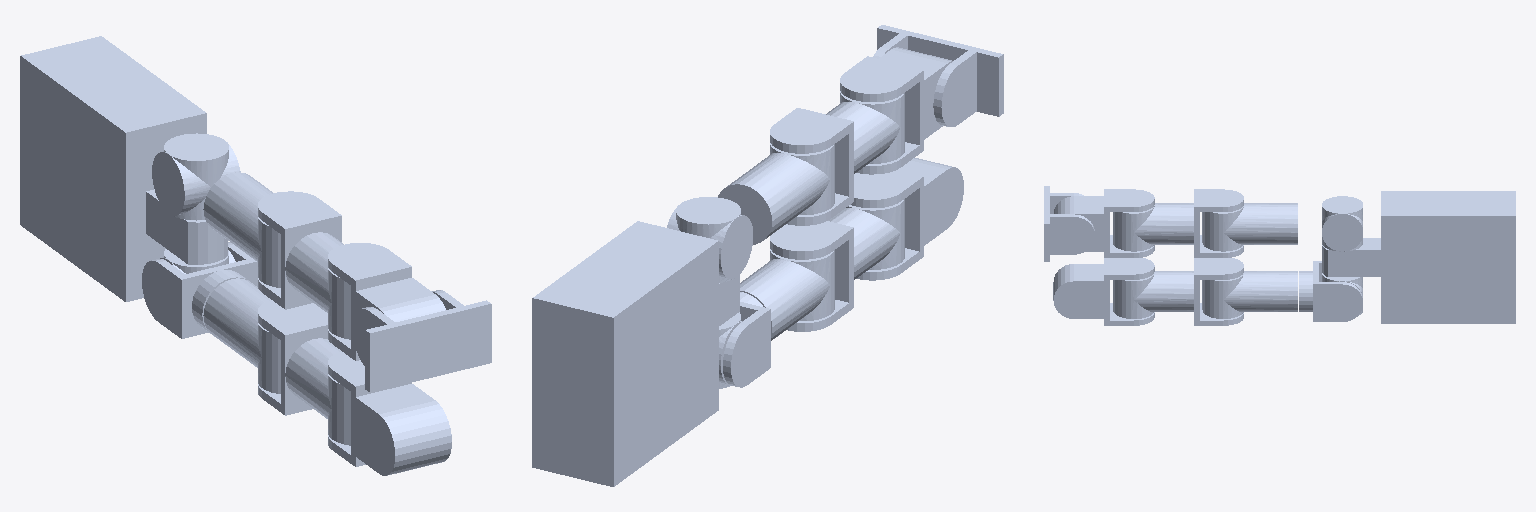
URDF robot description (sample_bipedal_robot):
<?xml version="1.0" encoding="utf-8"?>
<!-- This URDF was automatically created by SolidWorks to URDF Exporter! Originally created by Stephen Brawner (brawner@gmail.com) 
     Commit Version:   Build Version: 1.6.9305.33219
     For more information, please see http://wiki.ros.org/sw_urdf_exporter -->
<robot
  name="sample_bipedal_robot">
  <link
    name="base_link">
    <inertial>
      <origin
        xyz="2.3957E-18 -0.016415 6.1719E-17"
        rpy="0 0 0" />
      <mass
        value="10.167" />
      <inertia
        ixx="0.34448"
        ixy="6.8915E-18"
        ixz="5.6161E-18"
        iyy="0.16165"
        iyz="1.8865E-18"
        izz="0.24799" />
    </inertial>
    <visual>
      <origin
        xyz="0 0 0"
        rpy="0 0 0" />
      <geometry>
        <!-- <mesh filename="package://sample_bipedal_robot/meshes/base_link.STL" /> -->
        <mesh filename="./meshes/base_link.STL" />
      </geometry>
      <material
        name="">
        <color
          rgba="0.86667 0.9098 1 1" />
      </material>
    </visual>
    <collision>
      <origin
        xyz="0 0 0"
        rpy="0 0 0" />
      <geometry>
        <!-- <mesh filename="package://sample_bipedal_robot/meshes/base_link.STL" /> -->
        <mesh filename="./meshes/base_link.STL" />
      </geometry>
    </collision>
  </link>
  <link
    name="hip_pitch_left_link">
    <inertial>
      <origin
        xyz="2.33690732279828E-08 0 2.33690732043268E-08"
        rpy="0 0 0" />
      <mass
        value="0.664887687236356" />
      <inertia
        ixx="0.00194491189054185"
        ixy="1.24922502997283E-09"
        ixz="3.63079895867531E-16"
        iyy="0.00202049937456935"
        iyz="-1.24922502969971E-09"
        izz="0.00194491189054185" />
    </inertial>
    <visual>
      <origin
        xyz="0 0 0"
        rpy="0 0 0" />
      <geometry>
        <!-- <mesh filename="package://sample_bipedal_robot/meshes/hip_pitch_left_link.STL" /> -->
        <mesh filename="./meshes/hip_pitch_left_link.STL" />
      </geometry>
      <material
        name="">
        <color
          rgba="0.866666666666667 0.909803921568627 1 1" />
      </material>
    </visual>
    <collision>
      <origin
        xyz="0 0 0"
        rpy="0 0 0" />
      <geometry>
        <!-- <mesh filename="package://sample_bipedal_robot/meshes/hip_pitch_left_link.STL" /> -->
        <mesh filename="./meshes/hip_pitch_left_link.STL" />
      </geometry>
    </collision>
  </link>
  <joint
    name="hip_pitch_left_joint"
    type="continuous">
    <origin
      xyz="0 -0.355 -0.125"
      rpy="0 0 0" />
    <parent
      link="base_link" />
    <child
      link="hip_pitch_left_link" />
    <axis
      xyz="0 0 1" />
    <limit
      lower="-1.57"
      upper="1.57"
      effort="100"
      velocity="10" />
  </joint>
  <link
    name="hip_roll_left_link">
    <inertial>
      <origin
        xyz="5.47988322332102E-18 -0.071448992050803 0"
        rpy="0 0 0" />
      <mass
        value="0.530800065725118" />
      <inertia
        ixx="0.00238182060955742"
        ixy="1.33587179200789E-20"
        ixz="-1.93986095976325E-19"
        iyy="0.00288416659073163"
        iyz="-6.73805290334419E-20"
        izz="0.00375103770592918" />
    </inertial>
    <visual>
      <origin
        xyz="0 0 0"
        rpy="0 0 0" />
      <geometry>
        <!-- <mesh filename="package://sample_bipedal_robot/meshes/hip_roll_left_link.STL" /> -->
        <mesh filename="./meshes/hip_roll_left_link.STL" />
      </geometry>
      <material
        name="">
        <color
          rgba="0.866666666666667 0.909803921568627 1 1" />
      </material>
    </visual>
    <collision>
      <origin
        xyz="0 0 0"
        rpy="0 0 0" />
      <geometry>
        <!-- <mesh filename="package://sample_bipedal_robot/meshes/hip_roll_left_link.STL" /> -->
        <mesh filename="./meshes/hip_roll_left_link.STL" />
      </geometry>
    </collision>
  </link>
  <joint
    name="hip_roll_left_joint"
    type="continuous">
    <origin
      xyz="0 0 0"
      rpy="0 0 0" />
    <parent
      link="hip_pitch_left_link" />
    <child
      link="hip_roll_left_link" />
    <axis
      xyz="1 0 0" />
    <limit
      lower="-1.57"
      upper="1.57"
      effort="100"
      velocity="10" />
  </joint>
  <link
    name="hip_yaw_left_link">
    <inertial>
      <origin
        xyz="-1.53307894851172E-08 -0.161028143140512 0"
        rpy="0 0 0" />
      <mass
        value="1.36383246641991" />
      <inertia
        ixx="0.0129648379825961"
        ixy="4.73949257847294E-10"
        ixz="-3.64916490298114E-09"
        iyy="0.00361726436697802"
        iyz="-1.2642707667673E-19"
        izz="0.0128091054286981" />
    </inertial>
    <visual>
      <origin
        xyz="0 0 0"
        rpy="0 0 0" />
      <geometry>
        <!-- <mesh filename="package://sample_bipedal_robot/meshes/hip_yaw_left_link.STL" /> -->
        <mesh filename="./meshes/hip_yaw_left_link.STL" />
      </geometry>
      <material
        name="">
        <color
          rgba="0.866666666666667 0.909803921568627 1 1" />
      </material>
    </visual>
    <collision>
      <origin
        xyz="0 0 0"
        rpy="0 0 0" />
      <geometry>
        <!-- <mesh filename="package://sample_bipedal_robot/meshes/hip_yaw_left_link.STL" /> -->
        <mesh filename="./meshes/hip_yaw_left_link.STL" />
      </geometry>
    </collision>
  </link>
  <joint
    name="hip_yaw_left_joint"
    type="continuous">
    <origin
      xyz="0 -0.15 0"
      rpy="0 0 0" />
    <parent
      link="hip_roll_left_link" />
    <child
      link="hip_yaw_left_link" />
    <axis
      xyz="0 -1 0" />
    <limit
      lower="-1.57"
      upper="1.57"
      effort="100"
      velocity="10" />
  </joint>
  <link
    name="knee_pitch_left_link">
    <inertial>
      <origin
        xyz="-4.5329426770206E-08 -0.1913342221555 -5.74365988936787E-08"
        rpy="0 0 0" />
      <mass
        value="1.50270730941549" />
      <inertia
        ixx="0.0206480149866074"
        ixy="5.19726298765753E-09"
        ixz="-1.0654232083862E-09"
        iyy="0.00554119545375214"
        iyz="-5.77368067223139E-09"
        izz="0.0191230395144735" />
    </inertial>
    <visual>
      <origin
        xyz="0 0 0"
        rpy="0 0 0" />
      <geometry>
        <!-- <mesh filename="package://sample_bipedal_robot/meshes/knee_pitch_left_link.STL" /> -->
        <mesh filename="./meshes/knee_pitch_left_link.STL" />
      </geometry>
      <material
        name="">
        <color
          rgba="0.866666666666667 0.909803921568627 1 1" />
      </material>
    </visual>
    <collision>
      <origin
        xyz="0 0 0"
        rpy="0 0 0" />
      <geometry>
        <!-- <mesh filename="package://sample_bipedal_robot/meshes/knee_pitch_left_link.STL" /> -->
        <mesh filename="./meshes/knee_pitch_left_link.STL" />
      </geometry>
    </collision>
  </link>
  <joint
    name="knee_pitch_left_joint"
    type="continuous">
    <origin
      xyz="0 -0.25 0"
      rpy="0 0 0" />
    <parent
      link="hip_yaw_left_link" />
    <child
      link="knee_pitch_left_link" />
    <axis
      xyz="0 0 1" />
    <limit
      lower="-1.57"
      upper="1.57"
      effort="100"
      velocity="10" />
  </joint>
  <link
    name="ankle_pitch_left_link">
    <inertial>
      <origin
        xyz="1.12299858547934E-17 -0.138293351959195 -2.77555756156289E-17"
        rpy="0 0 0" />
      <mass
        value="1.15921855254247" />
      <inertia
        ixx="0.0100513482421227"
        ixy="-1.30273512224744E-19"
        ixz="3.97825964336926E-20"
        iyy="0.00497069222002865"
        iyz="-6.37423018329792E-19"
        izz="0.00880005281567877" />
    </inertial>
    <visual>
      <origin
        xyz="0 0 0"
        rpy="0 0 0" />
      <geometry>
        <!-- <mesh filename="package://sample_bipedal_robot/meshes/ankle_pitch_left_link.STL" /> -->
        <mesh filename="./meshes/ankle_pitch_left_link.STL" />
      </geometry>
      <material
        name="">
        <color
          rgba="0.866666666666667 0.909803921568627 1 1" />
      </material>
    </visual>
    <collision>
      <origin
        xyz="0 0 0"
        rpy="0 0 0" />
      <geometry>
        <!-- <mesh filename="package://sample_bipedal_robot/meshes/ankle_pitch_left_link.STL" /> -->
        <mesh filename="./meshes/ankle_pitch_left_link.STL" />
      </geometry>
    </collision>
  </link>
  <joint
    name="ankle_pitch_left_joint"
    type="continuous">
    <origin
      xyz="0 -0.3 0"
      rpy="0 0 0" />
    <parent
      link="knee_pitch_left_link" />
    <child
      link="ankle_pitch_left_link" />
    <axis
      xyz="0 0 1" />
    <limit
      lower="-1.57"
      upper="1.57"
      effort="100"
      velocity="10" />
  </joint>
  <link
    name="ankle_roll_left_link">
    <inertial>
      <origin
        xyz="-4.51820833094692E-18 -0.0528696020875221 0"
        rpy="0 0 0" />
      <mass
        value="0.427694789453883" />
      <inertia
        ixx="0.00165757423871352"
        ixy="-1.16263618462654E-19"
        ixz="5.92622937304524E-20"
        iyy="0.00382363159720044"
        iyz="1.61518563669245E-19"
        izz="0.00415145333508528" />
    </inertial>
    <visual>
      <origin
        xyz="0 0 0"
        rpy="0 0 0" />
      <geometry>
        <!-- <mesh filename="package://sample_bipedal_robot/meshes/ankle_roll_left_link.STL" /> -->
        <mesh filename="./meshes/ankle_roll_left_link.STL" />
      </geometry>
      <material
        name="">
        <color
          rgba="0.866666666666667 0.909803921568627 1 1" />
      </material>
    </visual>
    <collision>
      <origin
        xyz="0 0 0"
        rpy="0 0 0" />
      <geometry>
        <!-- <mesh filename="package://sample_bipedal_robot/meshes/ankle_roll_left_link.STL" /> -->
        <mesh filename="./meshes/ankle_roll_left_link.STL" />
      </geometry>
    </collision>
  </link>
  <joint
    name="ankle_roll_left_joint"
    type="continuous">
    <origin
      xyz="0 -0.2 0"
      rpy="0 0 0" />
    <parent
      link="ankle_pitch_left_link" />
    <child
      link="ankle_roll_left_link" />
    <axis
      xyz="1 0 0" />
    <limit
      lower="-1.57"
      upper="1.57"
      effort="100"
      velocity="10" />
  </joint>
  <link
    name="hip_pitch_right_link">
    <inertial>
      <origin
        xyz="2.33690732320798E-08 0 2.33690732598379E-08"
        rpy="0 0 0" />
      <mass
        value="0.664887687236356" />
      <inertia
        ixx="0.00194491189054185"
        ixy="1.24922502997992E-09"
        ixz="3.6295929978906E-16"
        iyy="0.00202049937456935"
        iyz="-1.24922503017678E-09"
        izz="0.00194491189054185" />
    </inertial>
    <visual>
      <origin
        xyz="0 0 0"
        rpy="0 0 0" />
      <geometry>
        <!-- <mesh filename="package://sample_bipedal_robot/meshes/hip_pitch_right_link.STL" /> -->
        <mesh filename="./meshes/hip_pitch_right_link.STL" />
      </geometry>
      <material
        name="">
        <color
          rgba="0.866666666666667 0.909803921568627 1 1" />
      </material>
    </visual>
    <collision>
      <origin
        xyz="0 0 0"
        rpy="0 0 0" />
      <geometry>
        <!-- <mesh filename="package://sample_bipedal_robot/meshes/hip_pitch_right_link.STL" /> -->
        <mesh filename="./meshes/hip_pitch_right_link.STL" />
      </geometry>
    </collision>
  </link>
  <joint
    name="hip_pitch_right_joint"
    type="continuous">
    <origin
      xyz="0 -0.355 0.125"
      rpy="0 0 0" />
    <parent
      link="base_link" />
    <child
      link="hip_pitch_right_link" />
    <axis
      xyz="0 0 1" />
    <limit
      lower="-1.57"
      upper="1.57"
      effort="100"
      velocity="10" />
  </joint>
  <link
    name="hip_roll_right_link">
    <inertial>
      <origin
        xyz="2.04895003790135E-18 -0.071448992050803 0"
        rpy="0 0 0" />
      <mass
        value="0.530800065725118" />
      <inertia
        ixx="0.00238182060955742"
        ixy="-2.32658203747703E-20"
        ixz="-1.93986095976325E-19"
        iyy="0.00288416659073163"
        iyz="-8.41398356667943E-20"
        izz="0.00375103770592918" />
    </inertial>
    <visual>
      <origin
        xyz="0 0 0"
        rpy="0 0 0" />
      <geometry>
        <!-- <mesh filename="package://sample_bipedal_robot/meshes/hip_roll_right_link.STL" /> -->
        <mesh filename="./meshes/hip_roll_right_link.STL" />
      </geometry>
      <material
        name="">
        <color
          rgba="0.866666666666667 0.909803921568627 1 1" />
      </material>
    </visual>
    <collision>
      <origin
        xyz="0 0 0"
        rpy="0 0 0" />
      <geometry>
        <!-- <mesh filename="package://sample_bipedal_robot/meshes/hip_roll_right_link.STL" /> -->
        <mesh filename="./meshes/hip_roll_right_link.STL" />
      </geometry>
    </collision>
  </link>
  <joint
    name="hip_roll_right_joint"
    type="continuous">
    <origin
      xyz="0 0 0"
      rpy="0 0 0" />
    <parent
      link="hip_pitch_right_link" />
    <child
      link="hip_roll_right_link" />
    <axis
      xyz="1 0 0" />
    <limit
      lower="-1.57"
      upper="1.57"
      effort="100"
      velocity="10" />
  </joint>
  <link
    name="hip_yaw_right_link">
    <inertial>
      <origin
        xyz="-1.53307894836862E-08 -0.161028143140512 0"
        rpy="0 0 0" />
      <mass
        value="1.36383246641991" />
      <inertia
        ixx="0.0129648379825961"
        ixy="4.7394925799234E-10"
        ixz="-3.64916490297582E-09"
        iyy="0.00361726436697802"
        iyz="3.0596396483239E-21"
        izz="0.0128091054286981" />
    </inertial>
    <visual>
      <origin
        xyz="0 0 0"
        rpy="0 0 0" />
      <geometry>
        <!-- <mesh filename="package://sample_bipedal_robot/meshes/hip_yaw_right_link.STL" /> -->
        <mesh filename="./meshes/hip_yaw_right_link.STL" />
      </geometry>
      <material
        name="">
        <color
          rgba="0.866666666666667 0.909803921568627 1 1" />
      </material>
    </visual>
    <collision>
      <origin
        xyz="0 0 0"
        rpy="0 0 0" />
      <geometry>
        <!-- <mesh filename="package://sample_bipedal_robot/meshes/hip_yaw_right_link.STL" /> -->
        <mesh filename="./meshes/hip_yaw_right_link.STL" />
      </geometry>
    </collision>
  </link>
  <joint
    name="hip_yaw_right_joint"
    type="continuous">
    <origin
      xyz="0 -0.15 0"
      rpy="0 0 0" />
    <parent
      link="hip_roll_right_link" />
    <child
      link="hip_yaw_right_link" />
    <axis
      xyz="0 -1 0" />
    <limit
      lower="-1.57"
      upper="1.57"
      effort="100"
      velocity="10" />
  </joint>
  <link
    name="knee_pitch_right_link">
    <inertial>
      <origin
        xyz="-4.53294267741714E-08 -0.1913342221555 -5.74365988798009E-08"
        rpy="0 0 0" />
      <mass
        value="1.50270730941549" />
      <inertia
        ixx="0.0206480149866074"
        ixy="5.19726298721573E-09"
        ixz="-1.06542320821968E-09"
        iyy="0.00554119545375214"
        iyz="-5.77368067040042E-09"
        izz="0.0191230395144735" />
    </inertial>
    <visual>
      <origin
        xyz="0 0 0"
        rpy="0 0 0" />
      <geometry>
        <!-- <mesh filename="package://sample_bipedal_robot/meshes/knee_pitch_right_link.STL" /> -->
        <mesh filename="./meshes/knee_pitch_right_link.STL" />
      </geometry>
      <material
        name="">
        <color
          rgba="0.866666666666667 0.909803921568627 1 1" />
      </material>
    </visual>
    <collision>
      <origin
        xyz="0 0 0"
        rpy="0 0 0" />
      <geometry>
        <!-- <mesh filename="package://sample_bipedal_robot/meshes/knee_pitch_right_link.STL" /> -->
        <mesh filename="./meshes/knee_pitch_right_link.STL" />
      </geometry>
    </collision>
  </link>
  <joint
    name="knee_pitch_right_joint"
    type="continuous">
    <origin
      xyz="0 -0.25 0"
      rpy="0 0 0" />
    <parent
      link="hip_yaw_right_link" />
    <child
      link="knee_pitch_right_link" />
    <axis
      xyz="0 0 1" />
    <limit
      lower="-1.57"
      upper="1.57"
      effort="100"
      velocity="10" />
  </joint>
  <link
    name="ankle_pitch_right_link">
    <inertial>
      <origin
        xyz="1.12299858547934E-17 -0.138293351959195 -2.77555756156289E-17"
        rpy="0 0 0" />
      <mass
        value="1.15921855254247" />
      <inertia
        ixx="0.0100513482421227"
        ixy="-1.30273512224744E-19"
        ixz="5.70917147108342E-20"
        iyy="0.00497069222002865"
        iyz="-4.44916813926276E-20"
        izz="0.00880005281567877" />
    </inertial>
    <visual>
      <origin
        xyz="0 0 0"
        rpy="0 0 0" />
      <geometry>
        <!-- <mesh filename="package://sample_bipedal_robot/meshes/ankle_pitch_right_link.STL" /> -->
        <mesh filename="./meshes/ankle_pitch_right_link.STL" />
      </geometry>
      <material
        name="">
        <color
          rgba="0.866666666666667 0.909803921568627 1 1" />
      </material>
    </visual>
    <collision>
      <origin
        xyz="0 0 0"
        rpy="0 0 0" />
      <geometry>
        <!-- <mesh filename="package://sample_bipedal_robot/meshes/ankle_pitch_right_link.STL" /> -->
        <mesh filename="./meshes/ankle_pitch_right_link.STL" />
      </geometry>
    </collision>
  </link>
  <joint
    name="ankle_pitch_right_joint"
    type="continuous">
    <origin
      xyz="0 -0.3 0"
      rpy="0 0 0" />
    <parent
      link="knee_pitch_right_link" />
    <child
      link="ankle_pitch_right_link" />
    <axis
      xyz="0 0 1" />
    <limit
      lower="-1.57"
      upper="1.57"
      effort="100"
      velocity="10" />
  </joint>
  <link
    name="ankle_roll_right_link">
    <inertial>
      <origin
        xyz="7.6785E-18 -0.05287 -2.7756E-17"
        rpy="0 0 0" />
      <mass
        value="0.42769" />
      <inertia
        ixx="0.0016576"
        ixy="1.6559E-20"
        ixz="2.1793E-19"
        iyy="0.0038236"
        iyz="5.8843E-20"
        izz="0.0041515" />
    </inertial>
    <visual>
      <origin
        xyz="0 0 0"
        rpy="0 0 0" />
      <geometry>
        <!-- <mesh filename="package://sample_bipedal_robot/meshes/ankle_roll_right_link.STL" /> -->
        <mesh filename="./meshes/ankle_roll_right_link.STL" />
      </geometry>
      <material
        name="">
        <color
          rgba="0.86667 0.9098 1 1" />
      </material>
    </visual>
    <collision>
      <origin
        xyz="0 0 0"
        rpy="0 0 0" />
      <geometry>
        <!-- <mesh filename="package://sample_bipedal_robot/meshes/ankle_roll_right_link.STL" /> -->
        <mesh filename="./meshes/ankle_roll_right_link.STL" />
      </geometry>
    </collision>
  </link>
  <joint
    name="ankle_roll_right_joint"
    type="continuous">
    <origin
      xyz="0 -0.2 0"
      rpy="0 0 0" />
    <parent
      link="ankle_pitch_right_link" />
    <child
      link="ankle_roll_right_link" />
    <axis
      xyz="1 0 0" />
    <limit
      lower="-1.57"
      upper="1.57"
      effort="100"
      velocity="10" />
  </joint>
</robot>

--- Facts derived from the render (not from the file) ---
The picture shows the robot from 3 angles, left to right: view 1: azimuth 30°, elevation 25°; view 2: azimuth 150°, elevation 25°; view 3: azimuth 270°, elevation 25°; orthographic projection.
Robot: sample_bipedal_robot — 13 links, 12 joints (12 continuous); root link base_link; default pose: every joint at zero.
Links seen in each view (by area): view 1: base_link, ankle_roll_right_link, ankle_pitch_left_link, knee_pitch_right_link, knee_pitch_left_link, ankle_pitch_right_link, hip_roll_left_link, hip_pitch_right_link, hip_yaw_right_link, hip_yaw_left_link, hip_pitch_left_link; view 2: base_link, knee_pitch_right_link, knee_pitch_left_link, ankle_pitch_left_link, hip_yaw_right_link, ankle_pitch_right_link, ankle_roll_right_link, hip_yaw_left_link, hip_pitch_right_link, hip_roll_left_link, hip_pitch_left_link; view 3: base_link, knee_pitch_right_link, knee_pitch_left_link, ankle_pitch_left_link, hip_yaw_right_link, hip_yaw_left_link, ankle_pitch_right_link, hip_roll_left_link, ankle_roll_right_link, hip_pitch_right_link.
Boxes of the visible links, bbox=[...] form: base_link: bbox=[20, 36, 227, 301]; ankle_roll_right_link: bbox=[352, 290, 491, 392]; ankle_pitch_left_link: bbox=[328, 351, 451, 475]; knee_pitch_right_link: bbox=[258, 191, 350, 339]; knee_pitch_left_link: bbox=[258, 300, 350, 445]; ankle_pitch_right_link: bbox=[328, 243, 445, 360]; hip_roll_left_link: bbox=[142, 242, 257, 338]; hip_pitch_right_link: bbox=[152, 133, 240, 220]; hip_yaw_right_link: bbox=[203, 172, 280, 287]; hip_yaw_left_link: bbox=[203, 278, 280, 393]; hip_pitch_left_link: bbox=[160, 249, 235, 273]; base_link: bbox=[532, 221, 739, 486]; knee_pitch_right_link: bbox=[770, 91, 904, 225]; knee_pitch_left_link: bbox=[770, 199, 904, 331]; ankle_pitch_left_link: bbox=[851, 158, 963, 280]; hip_yaw_right_link: bbox=[718, 143, 834, 244]; ankle_pitch_right_link: bbox=[840, 47, 952, 174]; ankle_roll_right_link: bbox=[873, 25, 1003, 126]; hip_yaw_left_link: bbox=[740, 249, 834, 340]; hip_pitch_right_link: bbox=[667, 197, 752, 282]; hip_roll_left_link: bbox=[723, 292, 770, 387]; hip_pitch_left_link: bbox=[719, 312, 742, 388]; base_link: bbox=[1322, 191, 1515, 323]; knee_pitch_right_link: bbox=[1113, 189, 1243, 257]; knee_pitch_left_link: bbox=[1113, 258, 1243, 325]; ankle_pitch_left_link: bbox=[1053, 258, 1154, 325]; hip_yaw_right_link: bbox=[1202, 203, 1297, 251]; hip_yaw_left_link: bbox=[1202, 271, 1297, 318]; ankle_pitch_right_link: bbox=[1054, 189, 1154, 257]; hip_roll_left_link: bbox=[1299, 261, 1362, 321]; ankle_roll_right_link: bbox=[1044, 186, 1094, 261]; hip_pitch_right_link: bbox=[1322, 196, 1362, 251].
Bounding box of the posed robot: 0.3 × 1.58 × 0.44 m (x, y, z).
Meshes: 13 distinct files referenced, 11 mesh visuals loaded (11 binary STL); not drawn: 2 (reference not matched to a file when rendering).
